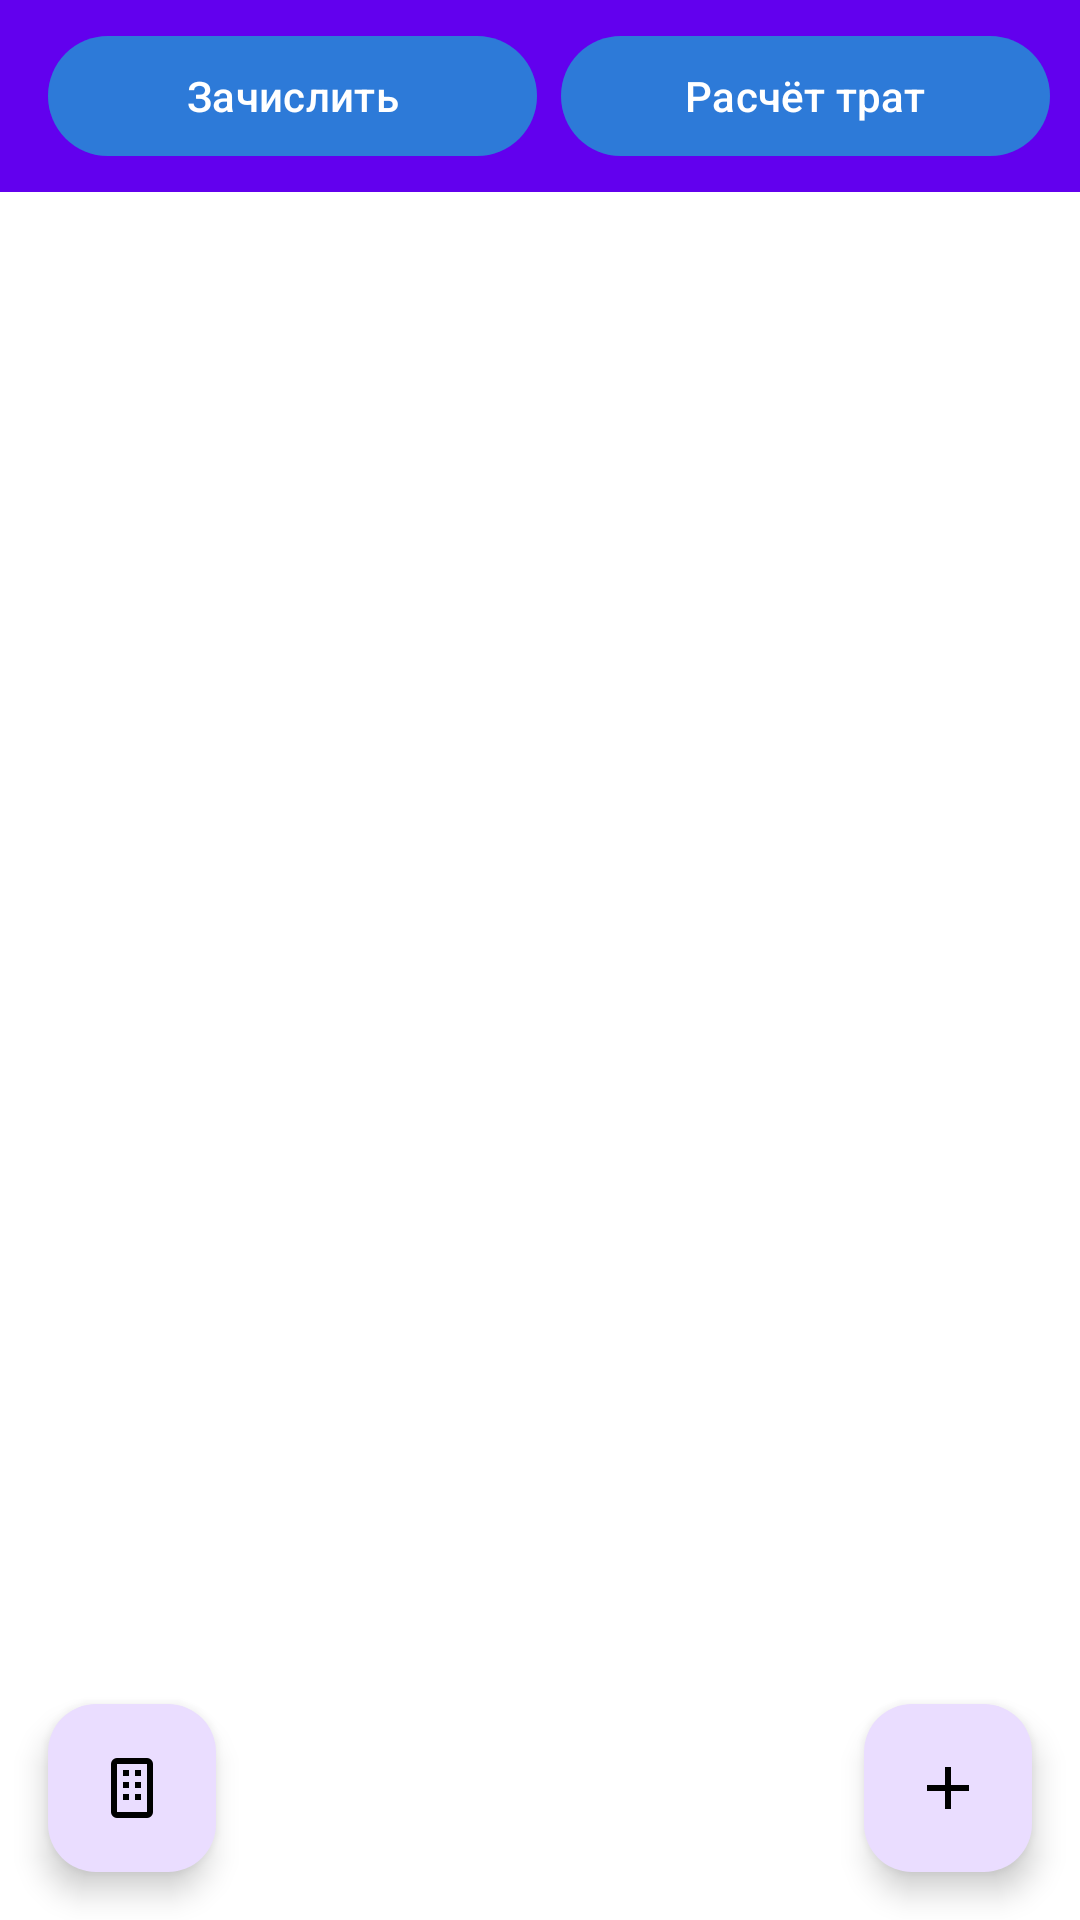

Where icons sit on this 1080 × 1920 app screen, as bbox=(x1, y1, x2, y2):
add: bbox=(864, 1704, 1032, 1872)
calculate: bbox=(48, 1704, 216, 1872)
